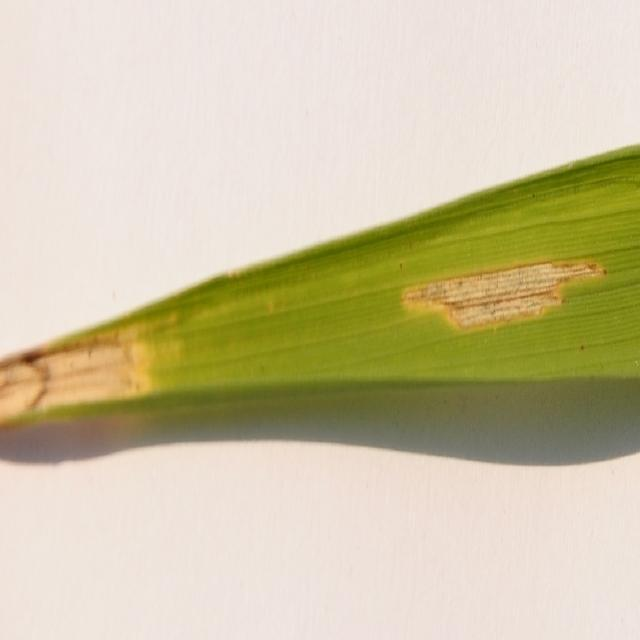bacterial_leaf_blight: (402, 262, 604, 327), (0, 336, 150, 423)
